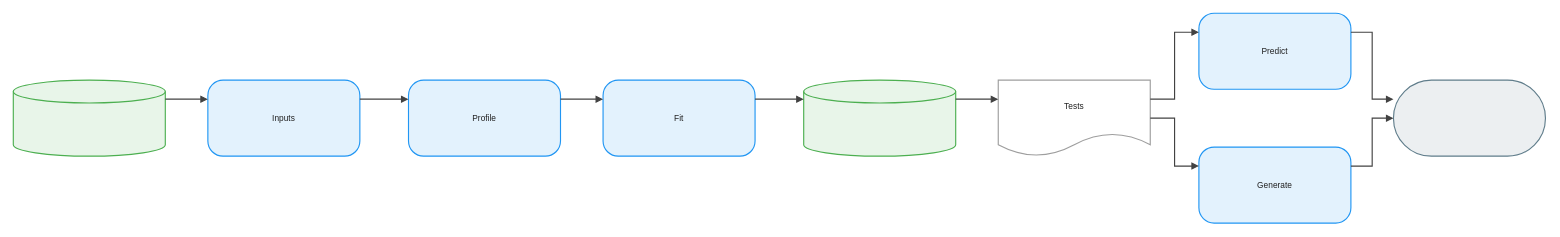
The diagram is 1560 pixels wide and 237 high, and some of its shapes have lost their labels. The centre of each missing label's shape, as x and y in pixels:
Code: the point at 89,117
Labels: the point at 879,117
Metrics: the point at 1469,117
